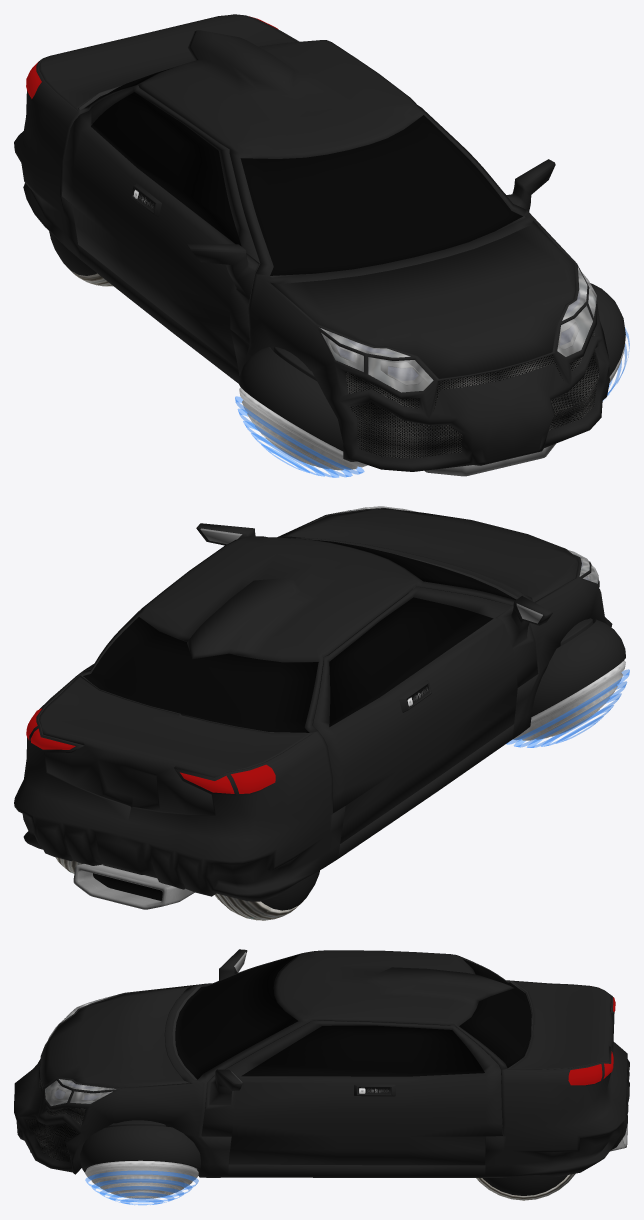
3 renders of one model, top to bottom at view 1: azimuth 30°, elevation 25°; view 2: azimuth 150°, elevation 25°; view 3: azimuth 270°, elevation 25°, orthographic. The views are drawn at different scales.
Visible parts, largest first — view 1: FuturisticV; view 2: FuturisticV; view 3: FuturisticV.
Part boxes in pixels (x1,y1,x2,y2): FuturisticV: (14,14,629,477); FuturisticV: (14,506,629,920); FuturisticV: (14,949,629,1204).
Bounding box in the file's own units: 99.48 × 64.35 × 189.
Materials: 15 (10 with a texture image).
